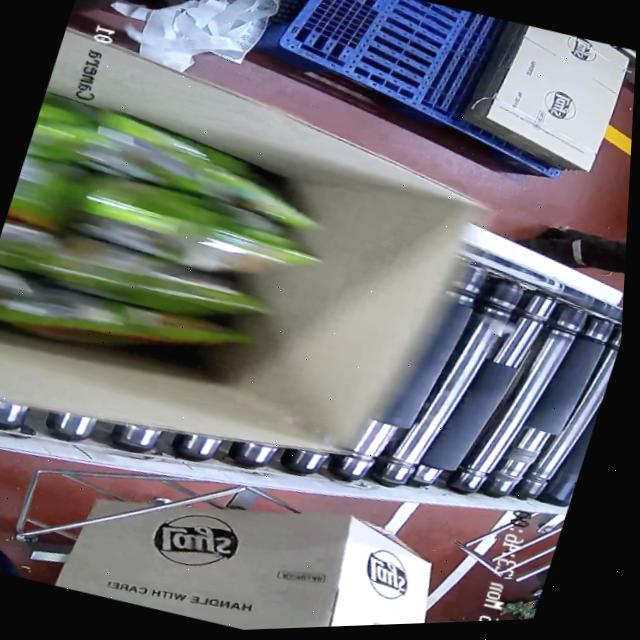YOGURT_HERB: (0, 83, 335, 392)
